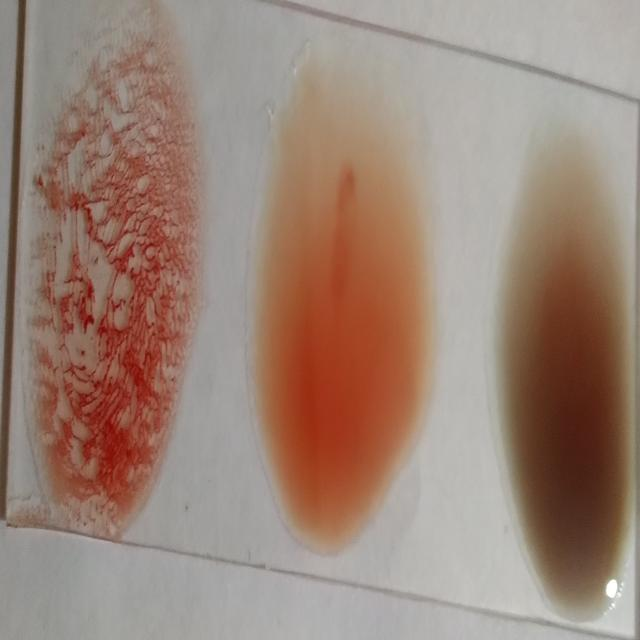D: (23, 12, 185, 530)
